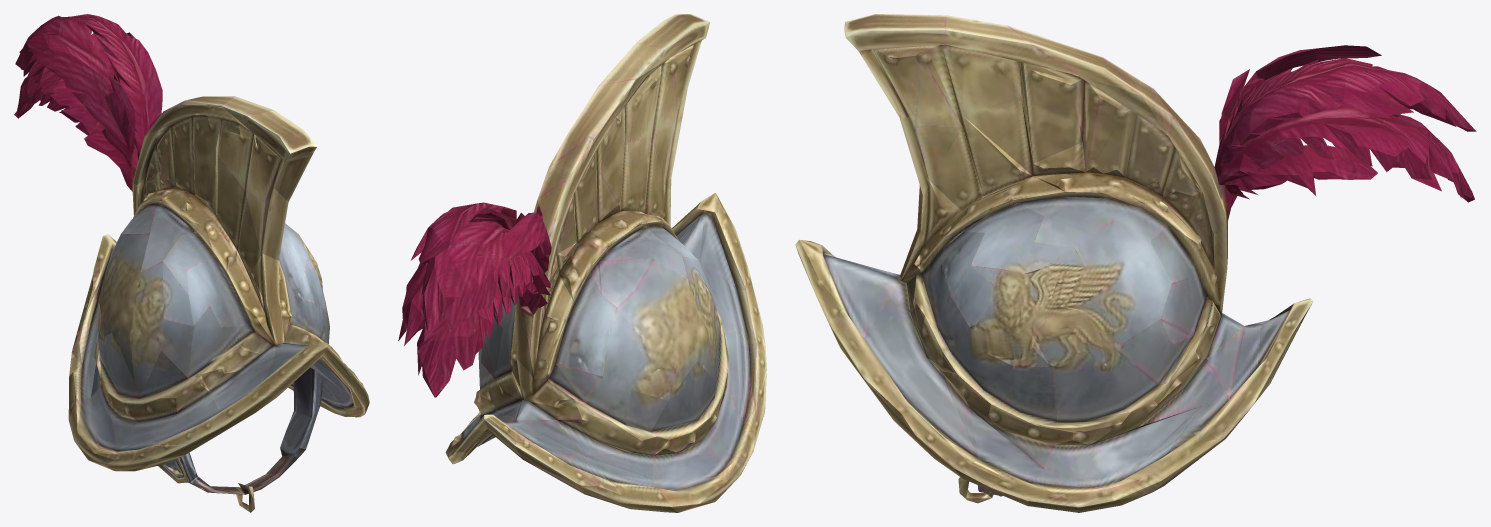
File: arsenale-testa.glb
The picture shows the model from 3 angles, left to right: view 1: azimuth 30°, elevation 25°; view 2: azimuth 150°, elevation 25°; view 3: azimuth 270°, elevation 25°; orthographic projection. The views are drawn at different scales.
Parts seen in each view (by area): view 1: Mesh_0; view 2: Mesh_0; view 3: Mesh_0.
Part boxes in pixels (x1,y1,x2,y2): Mesh_0: (14,14,369,512); Mesh_0: (398,14,766,512); Mesh_0: (795,14,1476,512).
Bounding box in the file's own units: 0.9063 × 1.48 × 1.89.
1 material, 1 textured.
